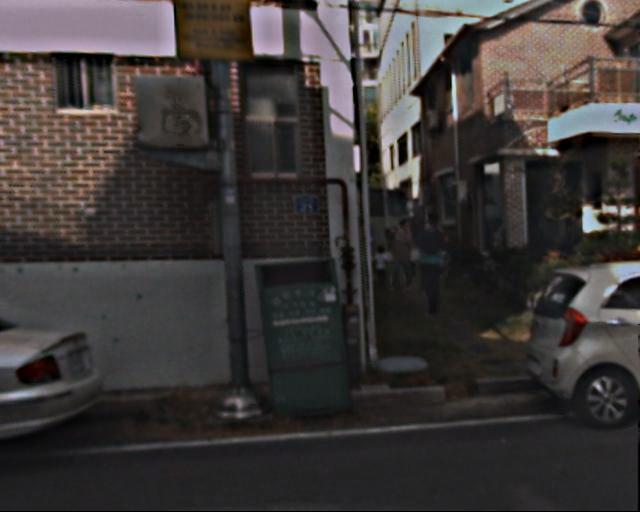person: (408, 210, 455, 321), (386, 217, 418, 294), (369, 245, 389, 288)
